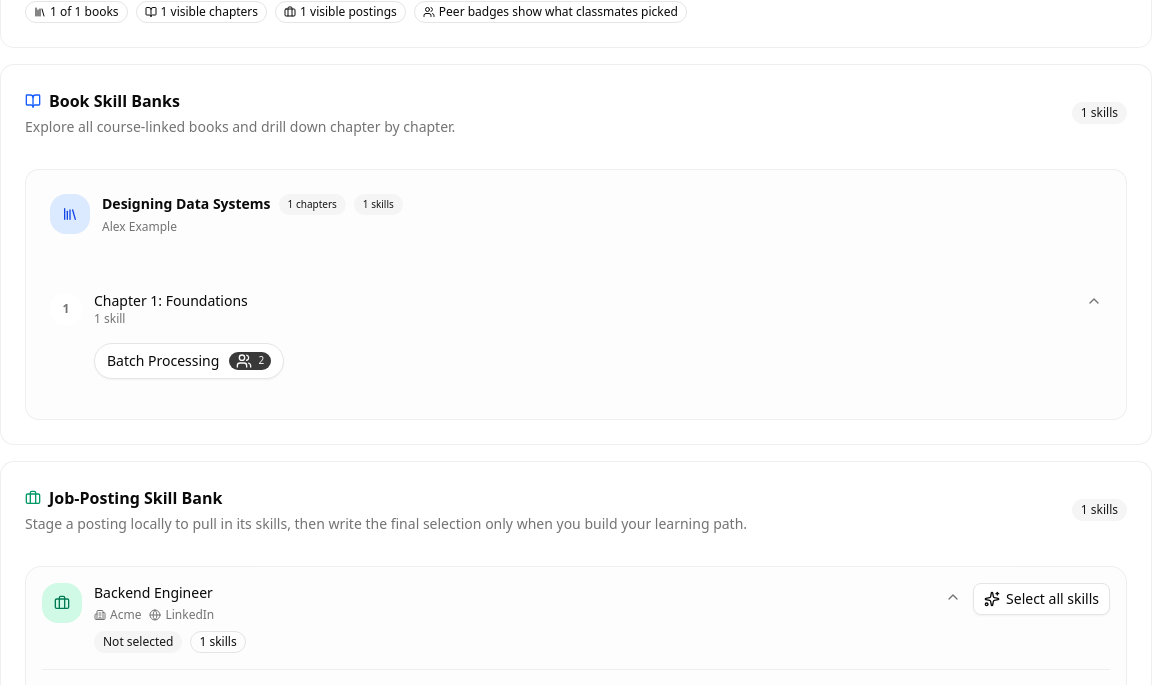
Scenario: StudentLearningPathPage › keeps draft selections local while choosing skills
(page scrolled)
Click the button "Batch Processing 2" at (189, 360), box [94,342,284,378]
(page scrolled)
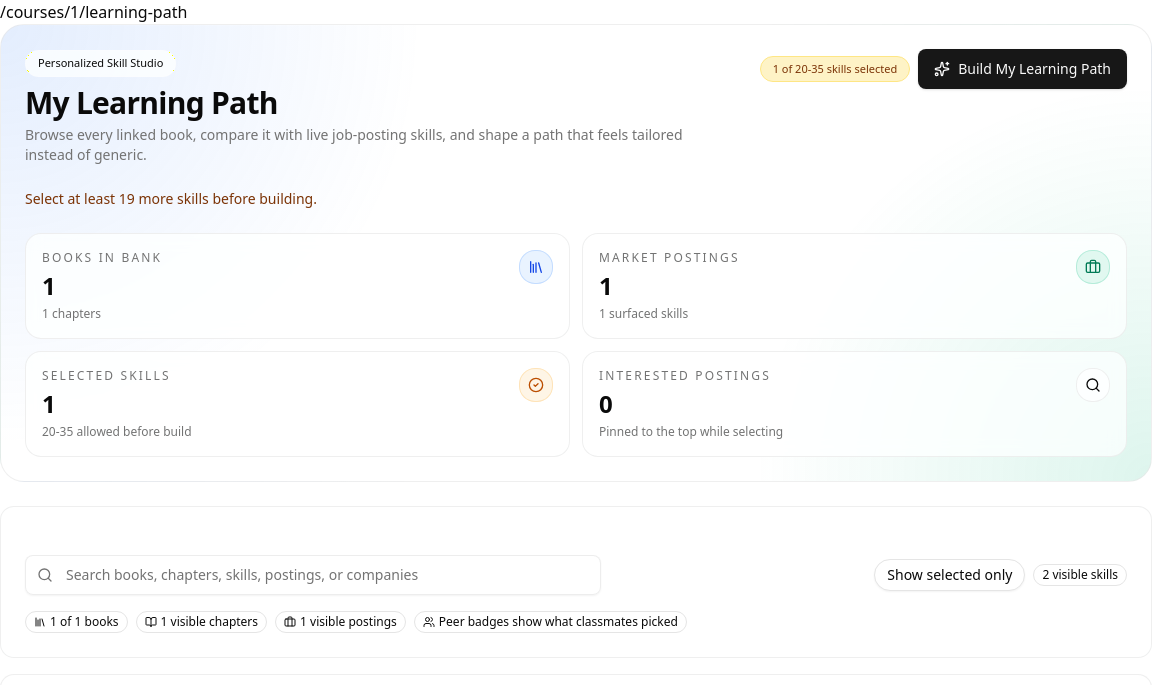
Expected: the text "1 of 20-35 skills selected" is shown, [760,56,910,82]
